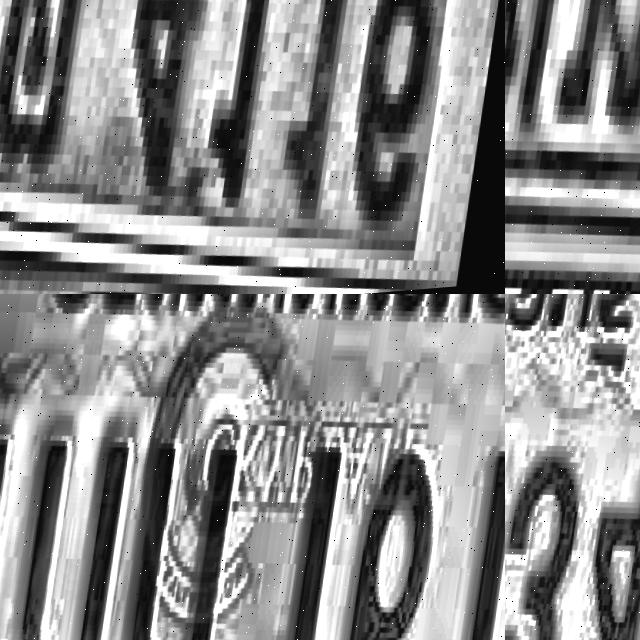license-plate: (0, 294, 505, 640), (0, 0, 505, 294), (505, 294, 640, 640), (505, 0, 640, 284)
